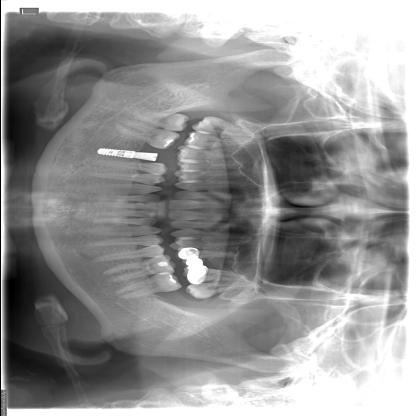ITI: (95, 148, 134, 162)
